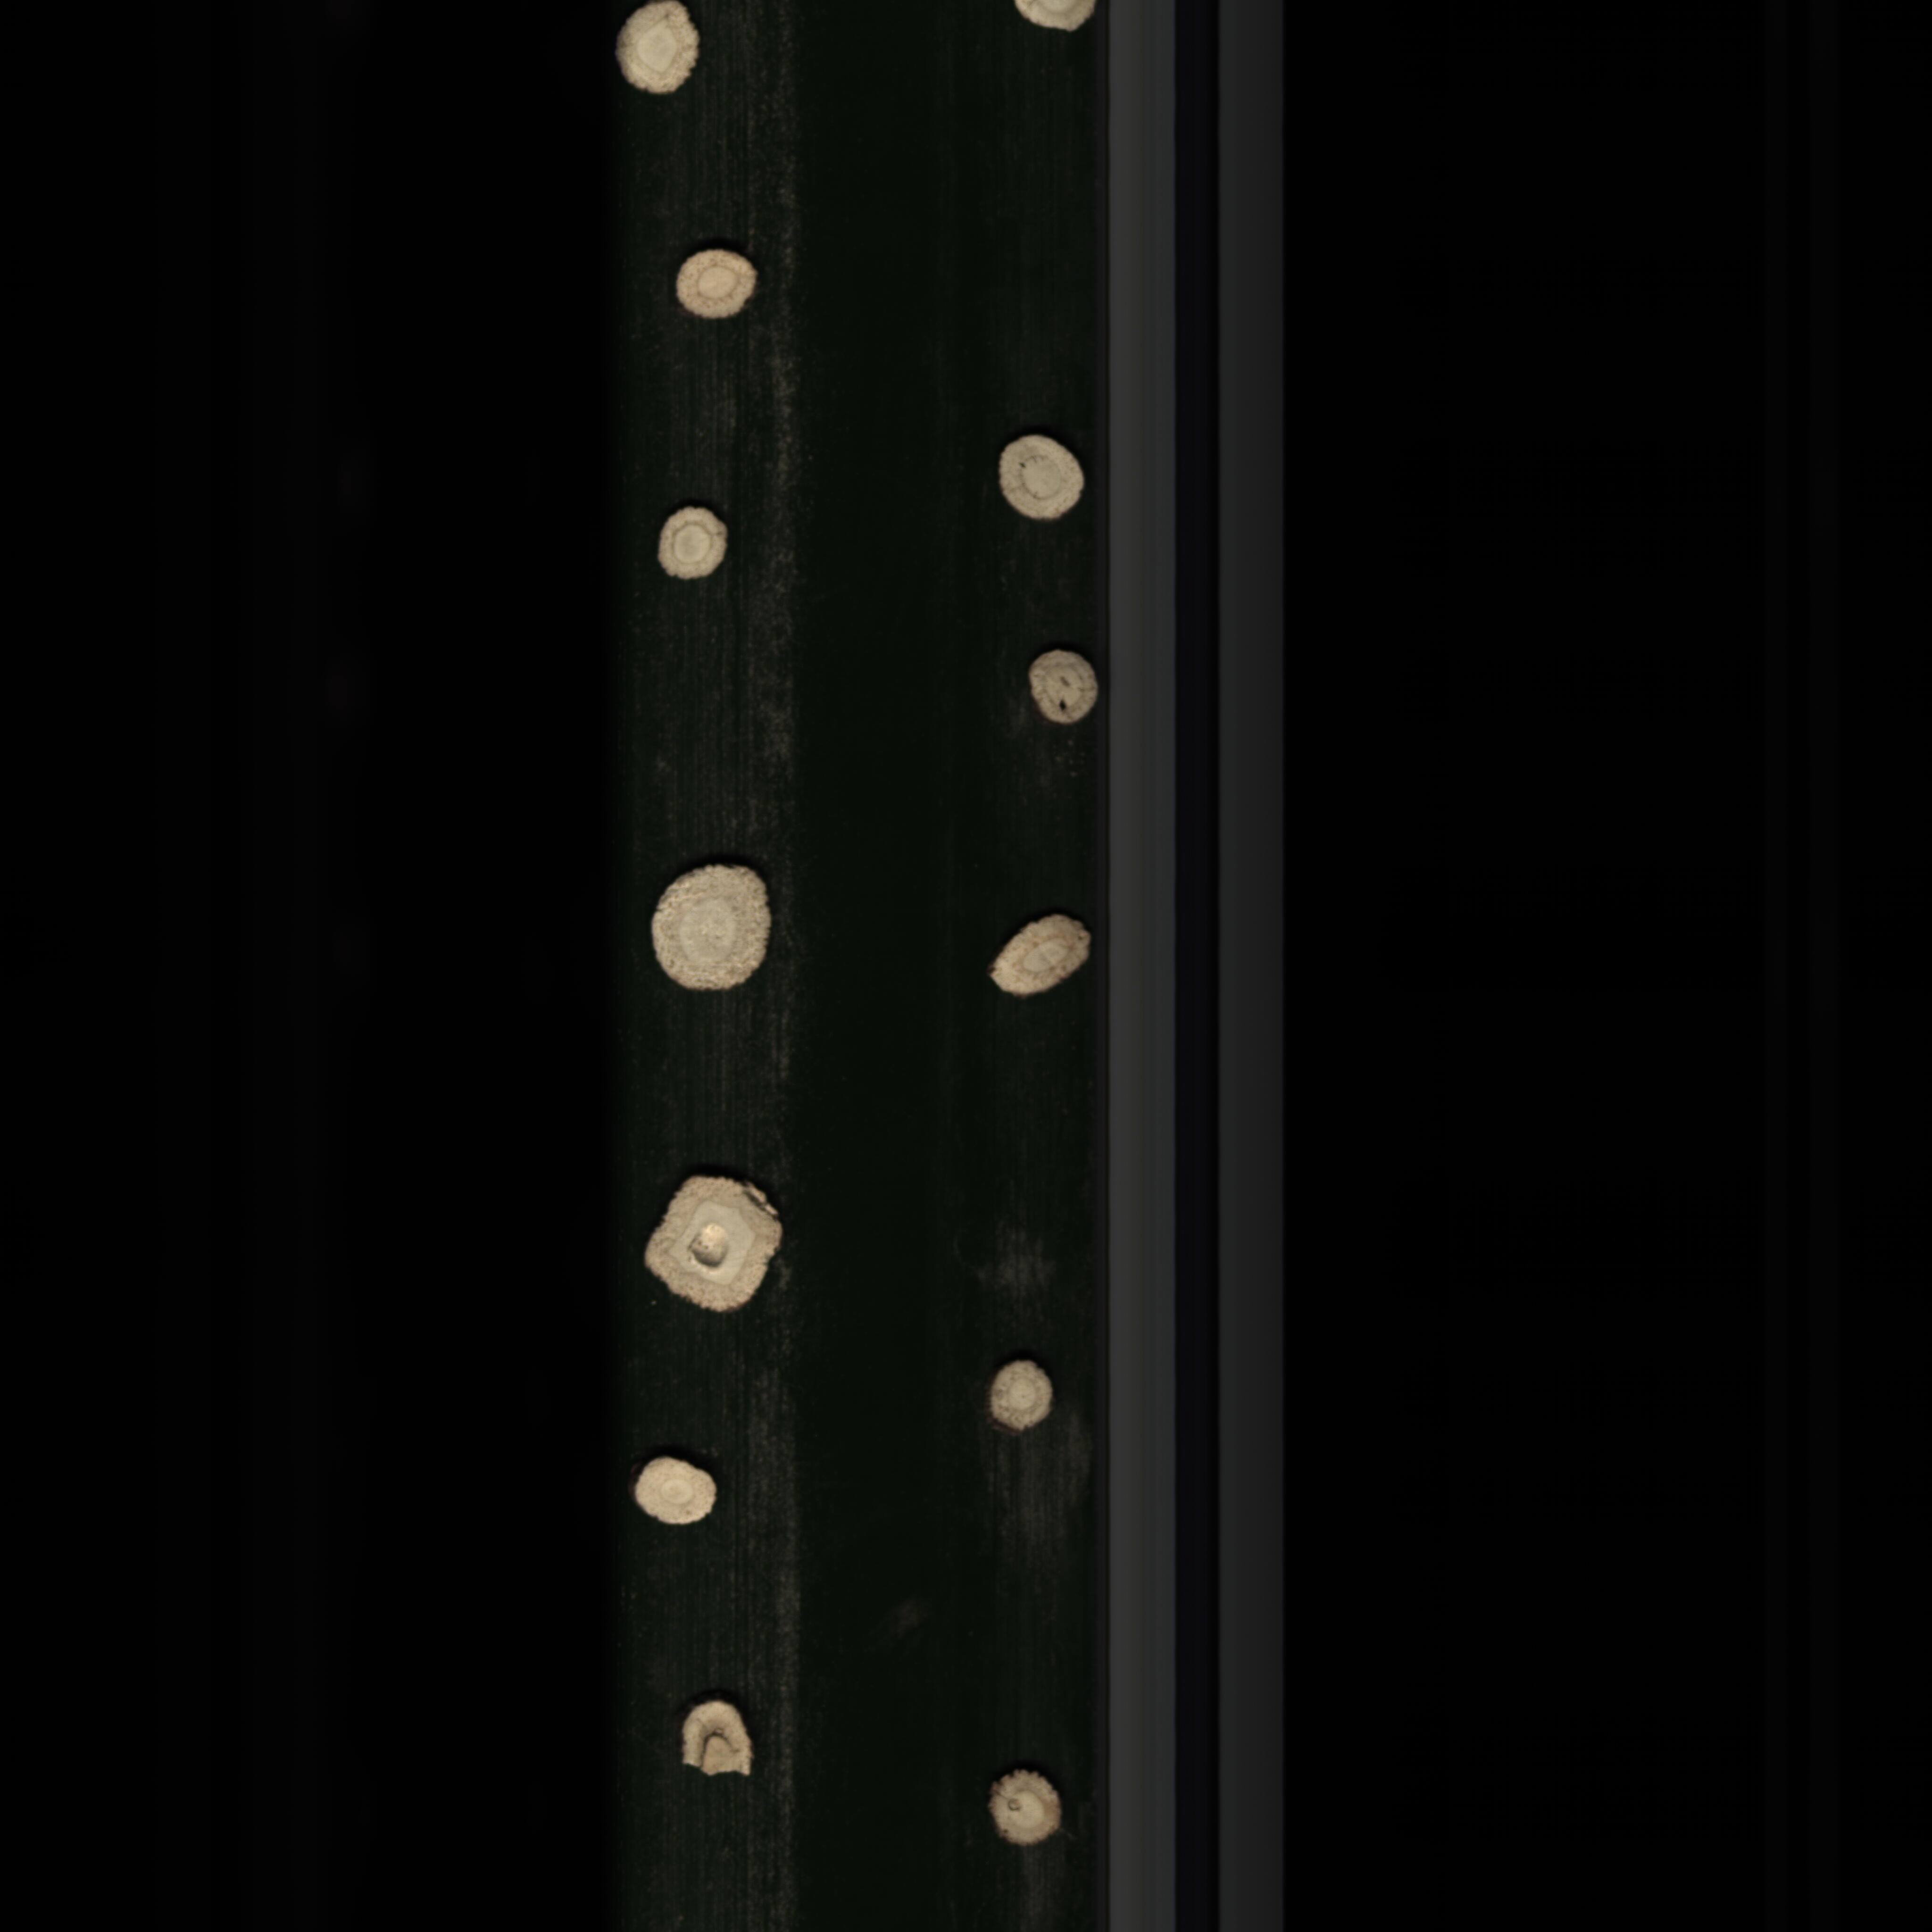debris: (665, 1693, 764, 1798)
hole: (639, 1168, 812, 1329), (1019, 644, 1102, 727)
